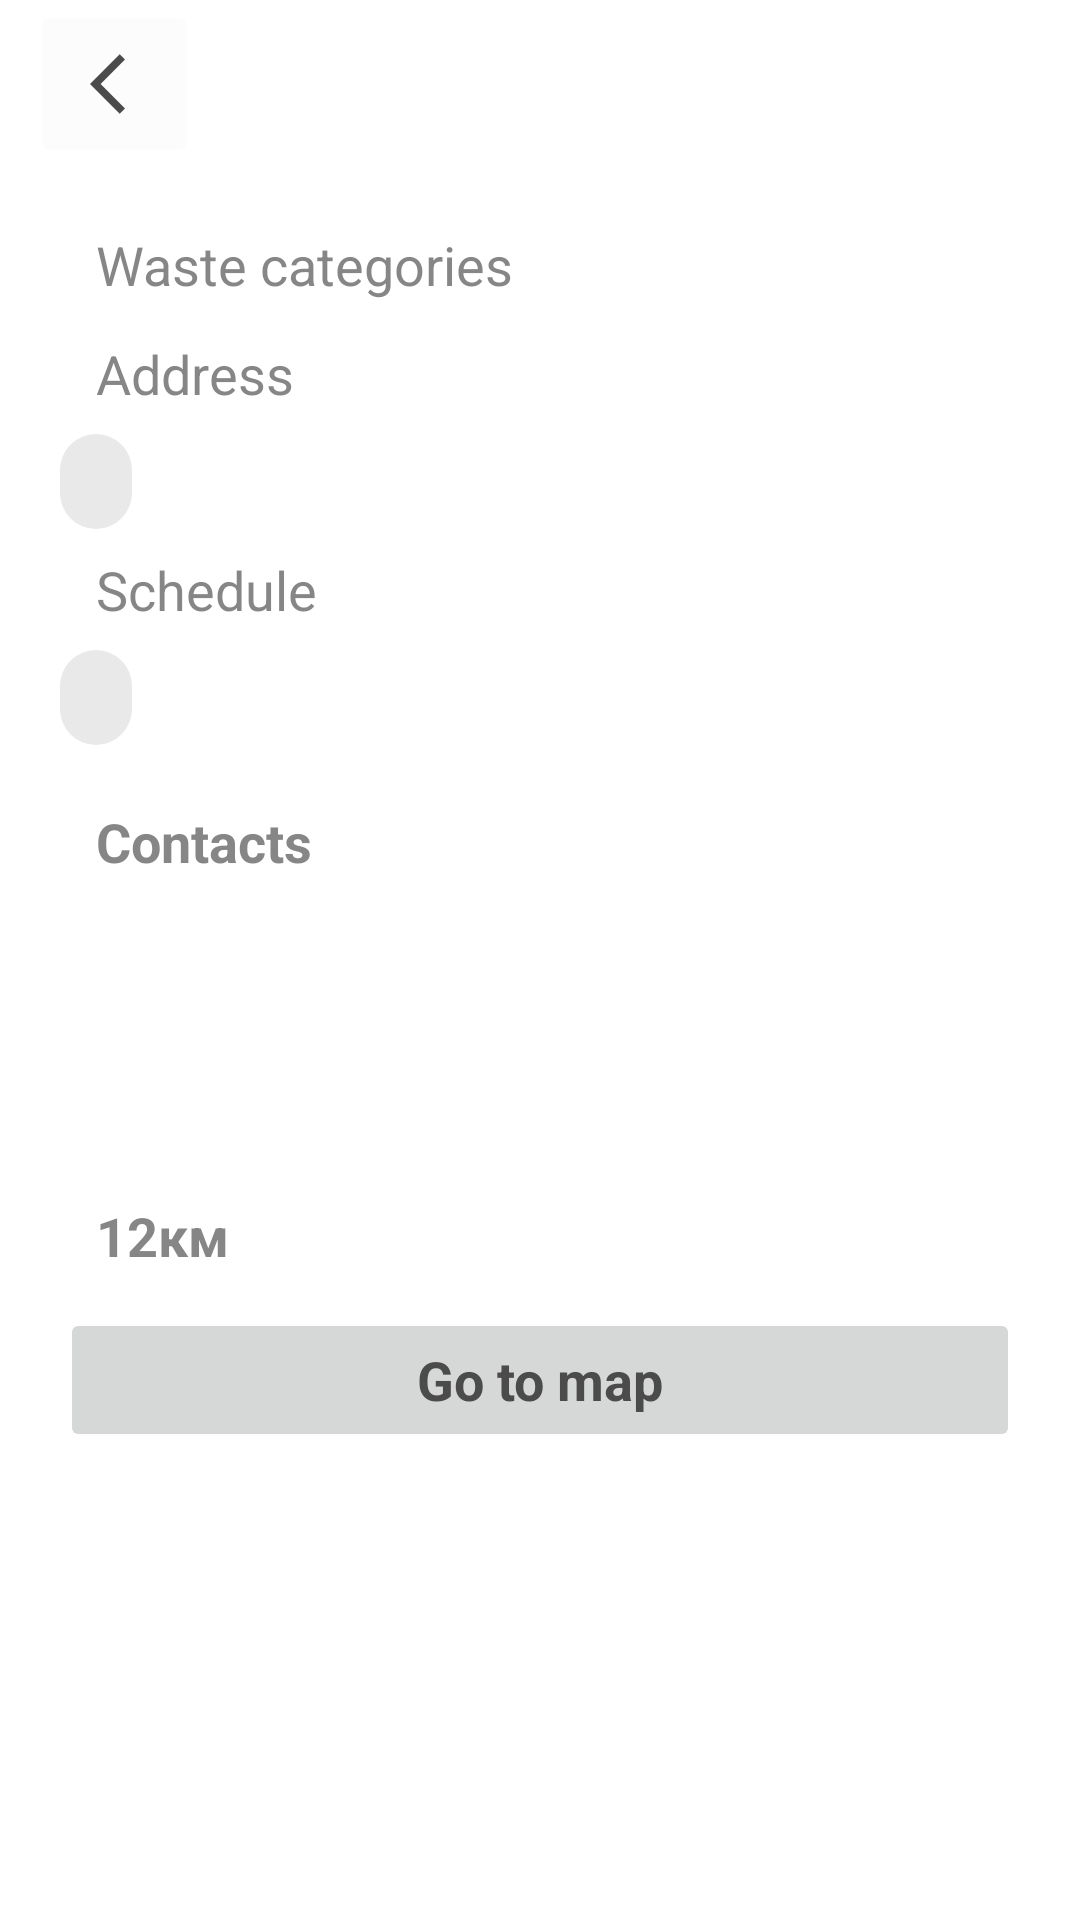

Where to tap for icons on this 1080 x 1920 app screen, as (x,y):
arrow back: (107,84)
